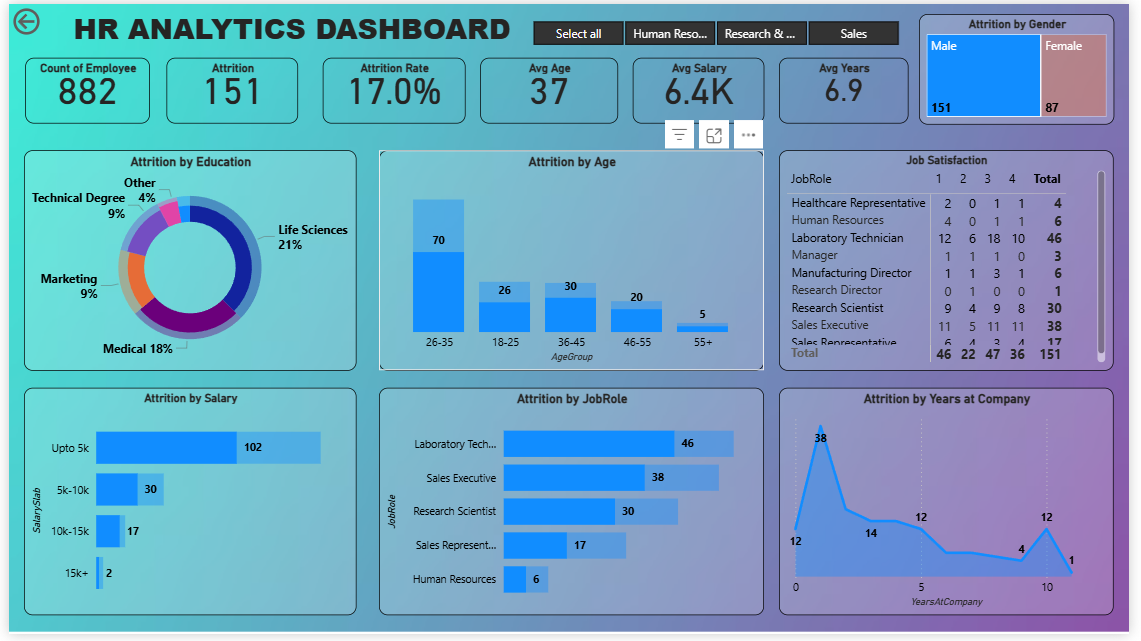

This screenshot's page, from the dashboard's own definition file:
{"tool":"powerbi","page":{"name":"Page 1","canvas":[1280,720],"ordinal":0},"visuals":[{"type":"card","title":"Avg Age","fields":{"Values":["Avg(Sheet1.Age)"]},"box":[538.5,61.9,157.5,75.4],"z":0},{"type":"card","title":"Count of Employee","fields":{"Values":["Count(Sheet1.EmpID)"]},"box":[18.8,61.9,142.7,75.4],"z":1000},{"type":"card","title":"Attrition Rate","fields":{"Values":["Sheet1.AttritionRate"]},"box":[358.1,61.9,162.9,75.4],"z":2000},{"type":"actionButton","box":[0,0,100,40],"z":3000},{"type":"card","title":"Attrition","fields":{"Values":["Sum(Sheet1.AttritionCount)"]},"box":[180.4,61.9,150.8,75.4],"z":4000},{"type":"card","title":"Avg Years","fields":{"Values":["Avg(Sheet1.YearsAtCompany)"]},"box":[880.4,61.9,148.1,75.4],"z":5000},{"type":"card","title":"Avg Salary","fields":{"Values":["Avg(Sheet1.MonthlyIncome)"]},"box":[712.2,61.9,150.8,75.4],"z":6000},{"type":"donutChart","title":"Attrition by Education","fields":{"Category":["Sheet1.EducationField"],"Y":["Sum(Sheet1.AttritionCount)"]},"box":[17.5,166.9,379.6,251.7],"z":7000},{"type":"columnChart","title":"Attrition by Age","fields":{"Y":["Sum(Sheet1.AttritionCount)"],"Category":["Sheet1.AgeGroup"]},"box":[422.7,166.9,440.2,251.7],"z":8000},{"type":"pivotTable","title":"Job Satisfaction","fields":{"Rows":["Sheet1.JobRole"],"Columns":["Sheet1.JobSatisfaction"],"Values":["Sum(Sheet1.AttritionCount)"]},"box":[880.4,166.9,382.3,251.7],"z":9000},{"type":"barChart","title":"Attrition by Salary","fields":{"Category":["Sheet1.SalarySlab"],"Y":["Sum(Sheet1.AttritionCount)"]},"box":[17.5,438.9,379.6,259.8],"z":10000},{"type":"barChart","title":"Attrition by JobRole","fields":{"Category":["Sheet1.JobRole","Sheet1.SalarySlab"],"Y":["Sum(Sheet1.AttritionCount)"]},"box":[422.7,438.9,440.2,259.8],"z":11000},{"type":"areaChart","title":"Attrition by Years at Company","fields":{"Category":["Sheet1.YearsAtCompany"],"Y":["Sum(Sheet1.AttritionCount)"]},"box":[880.4,438.9,382.3,259.8],"z":12000},{"type":"treemap","title":"Attrition by Gender","fields":{"Group":["Sheet1.Gender"],"Values":["Sum(Sheet1.AttritionCount)"]},"box":[1039.3,10.8,223.5,126.5],"z":13000},{"type":"slicer","fields":{"Values":["Sheet1.Department"]},"box":[576.2,13.5,463.1,35],"z":14000},{"type":"textbox","box":[68.7,0,570.8,61.9],"z":14001}]}

Visuals, with their boxes in screenshot pixels (x1, y1, x2, y2), scaled from the page's 1280x720 canvas onto the 1141x641 screenshot:
"Avg Age" card: {"left": 480, "top": 55, "right": 620, "bottom": 122}
"Count of Employee" card: {"left": 17, "top": 55, "right": 144, "bottom": 122}
"Attrition Rate" card: {"left": 319, "top": 55, "right": 464, "bottom": 122}
actionButton: {"left": 0, "top": 0, "right": 89, "bottom": 36}
"Attrition" card: {"left": 161, "top": 55, "right": 295, "bottom": 122}
"Avg Years" card: {"left": 785, "top": 55, "right": 917, "bottom": 122}
"Avg Salary" card: {"left": 635, "top": 55, "right": 769, "bottom": 122}
"Attrition by Education" donutChart: {"left": 16, "top": 149, "right": 354, "bottom": 373}
"Attrition by Age" columnChart: {"left": 377, "top": 149, "right": 769, "bottom": 373}
"Job Satisfaction" pivotTable: {"left": 785, "top": 149, "right": 1126, "bottom": 373}
"Attrition by Salary" barChart: {"left": 16, "top": 391, "right": 354, "bottom": 622}
"Attrition by JobRole" barChart: {"left": 377, "top": 391, "right": 769, "bottom": 622}
"Attrition by Years at Company" areaChart: {"left": 785, "top": 391, "right": 1126, "bottom": 622}
"Attrition by Gender" treemap: {"left": 926, "top": 10, "right": 1126, "bottom": 122}
slicer - Sheet1.Department: {"left": 514, "top": 12, "right": 926, "bottom": 43}
textbox: {"left": 61, "top": 0, "right": 570, "bottom": 55}
